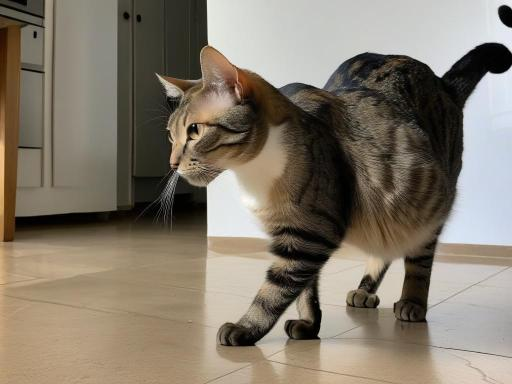cat_standing: (158, 42, 512, 346)
